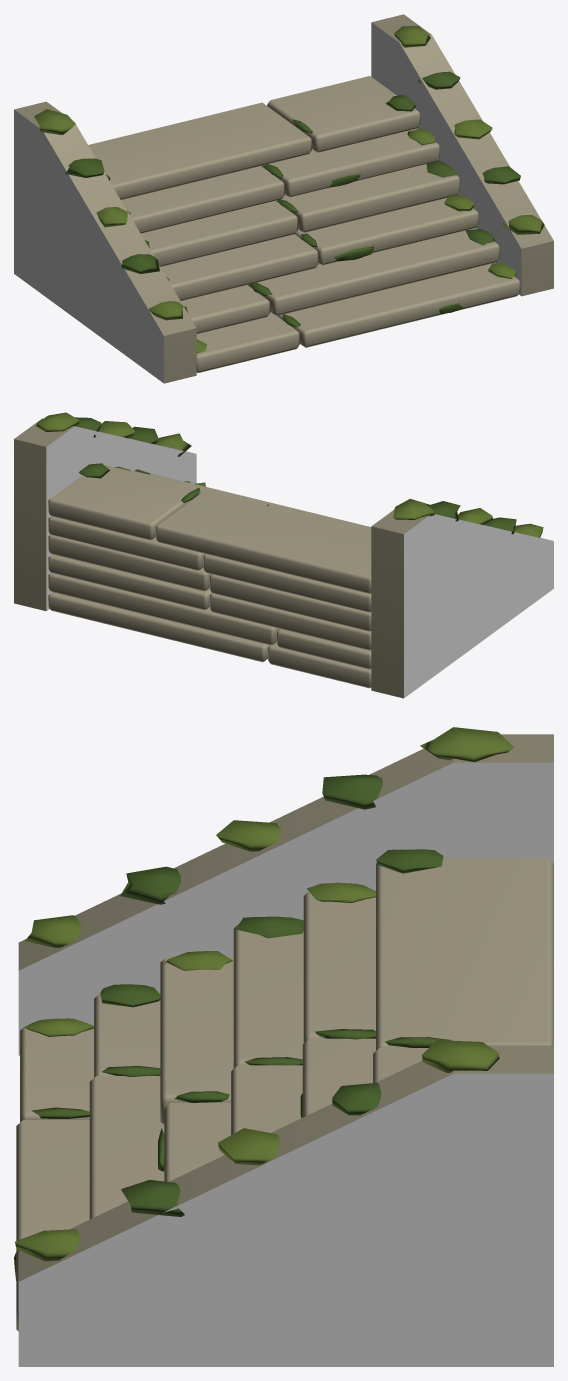
File: StoneStepsKM.fbx
3 renders of one model, top to bottom at view 1: azimuth 30°, elevation 25°; view 2: azimuth 150°, elevation 25°; view 3: azimuth 270°, elevation 25°, orthographic. The views are drawn at different scales.
Visible parts, largest first — view 1: StoneStepsKM; view 2: StoneStepsKM; view 3: StoneStepsKM.
Part boxes in pixels (x1=…): StoneStepsKM: x1=14, y1=14, x2=553, y2=383; StoneStepsKM: x1=14, y1=412, x2=553, y2=698; StoneStepsKM: x1=14, y1=727, x2=553, y2=1366.
Size of the model in its own units: 3.65 by 1.5 by 2.42.
